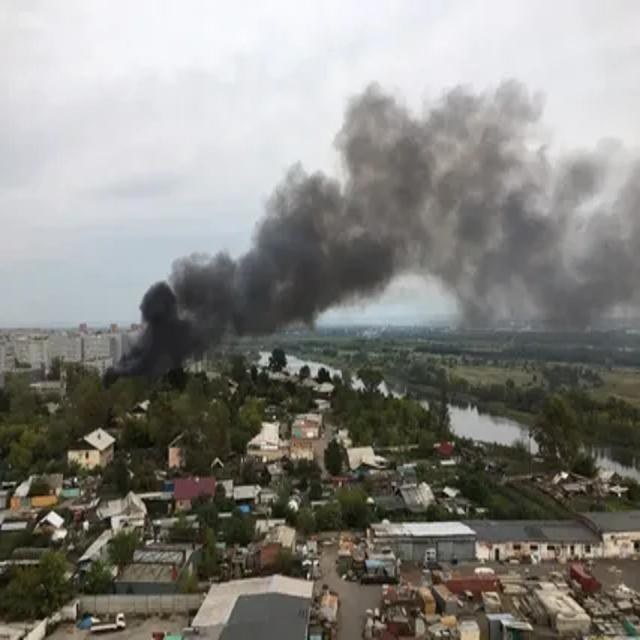Smoke: (126, 164, 430, 370)
